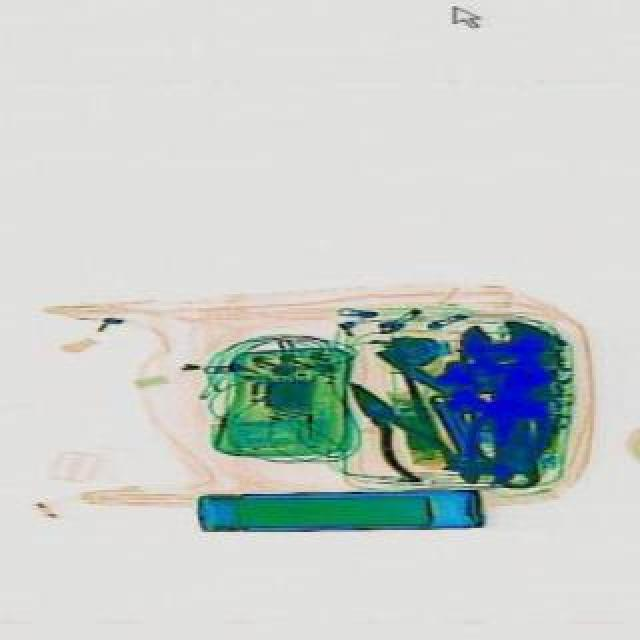scissors: (454, 318, 562, 492)
wrench: (324, 364, 452, 488)
